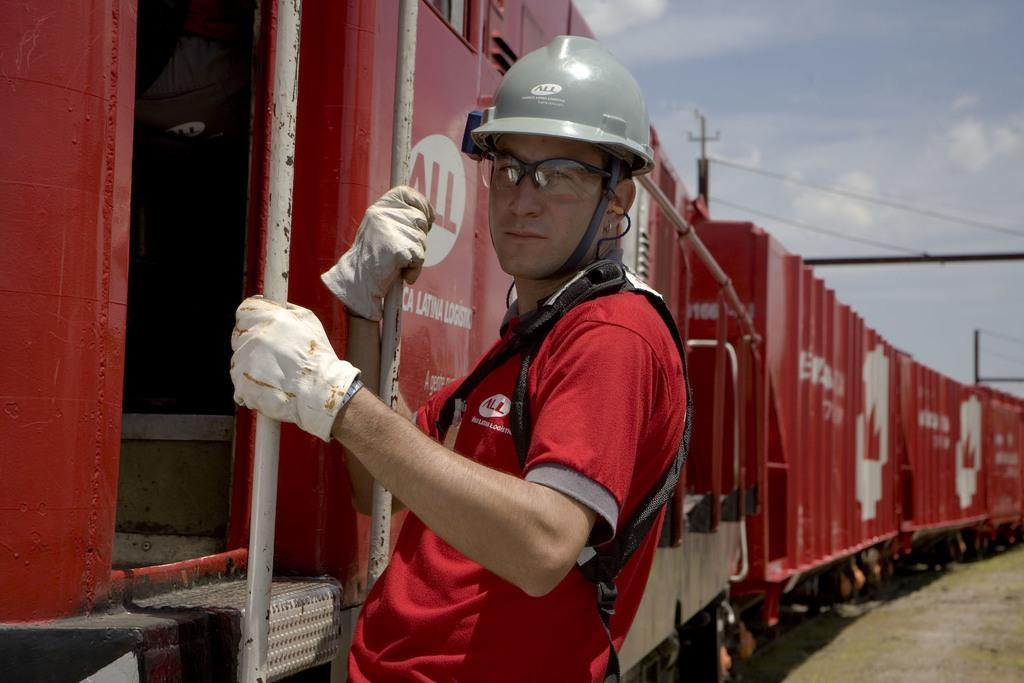helmet: (470, 35, 656, 275)
